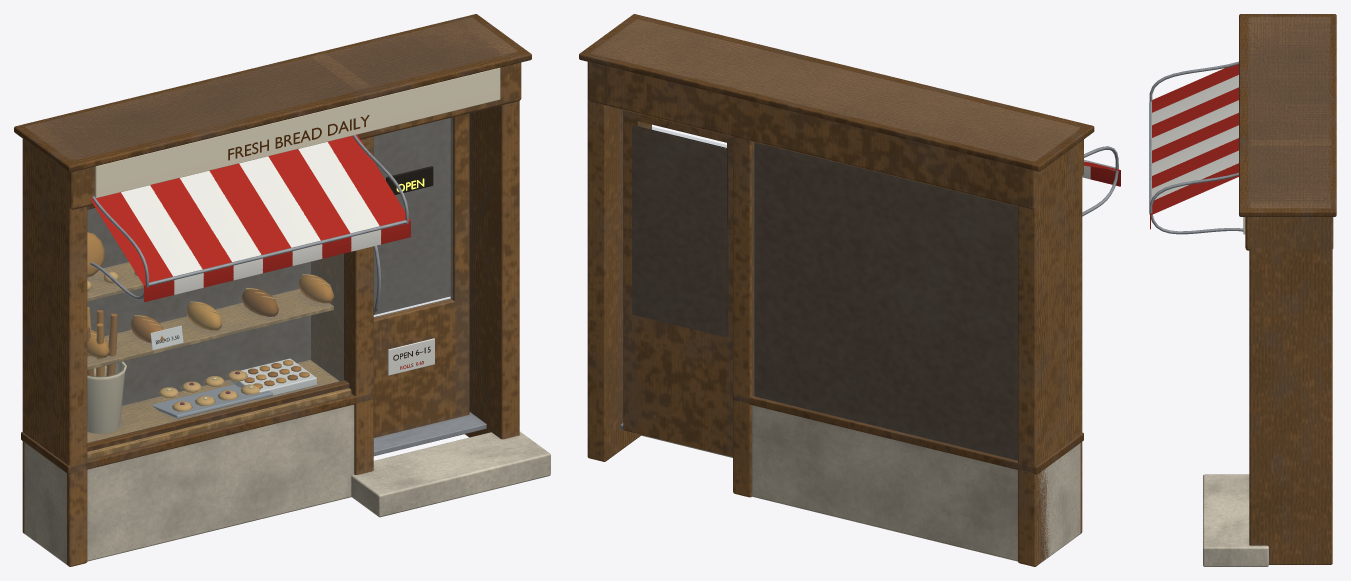
The model's file is piekarnia_witryna.glb.
3 views of the same model, side by side, from view 1: azimuth 30°, elevation 25°; view 2: azimuth 150°, elevation 25°; view 3: azimuth 270°, elevation 25° (orthographic). The views are drawn at different scales.
Visible parts, largest first — view 1: Witryna, Towar, Szyby, Napisy, OpenRamka; view 2: Witryna; view 3: Witryna, Towar.
Part boxes in pixels (<box>): Witryna: <box>14,14,550,566</box>; Towar: <box>87,67,500,433</box>; Szyby: <box>87,117,452,442</box>; Napisy: <box>155,115,430,369</box>; OpenRamka: <box>386,166,433,194</box>; Witryna: <box>579,14,1118,566</box>; Witryna: <box>1149,14,1336,566</box>; Towar: <box>1150,64,1245,234</box>.
Bounding box in the file's own units: 2.98 × 2.5 × 1.19.
Materials: 18 (1 with a texture image).
